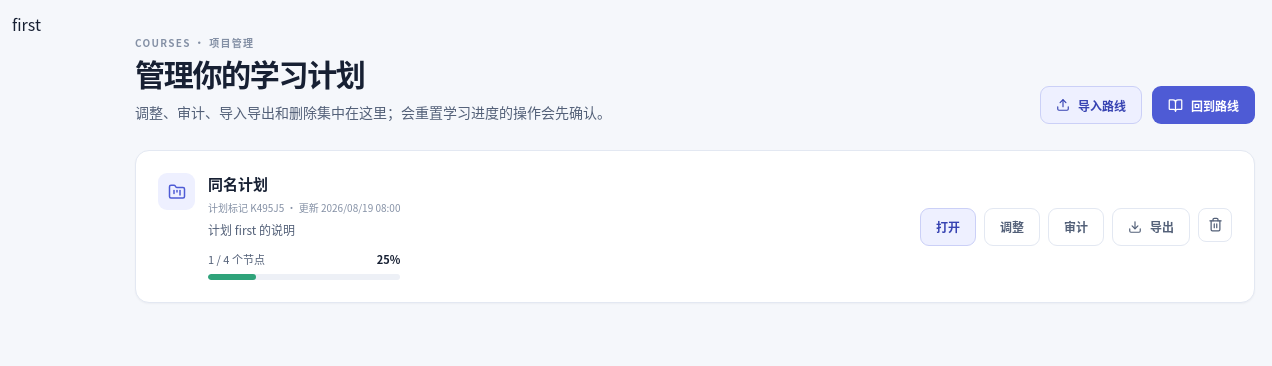
Test: current project selection › keeps the plan and displays a useful delete error
The width and height of the screenshot is (1272, 366).
Step 1. Click the button named "删除学习计划 同名计划 K495J5" → x=1215, y=225, box top-left (1198, 208), bottom-right (1232, 242)
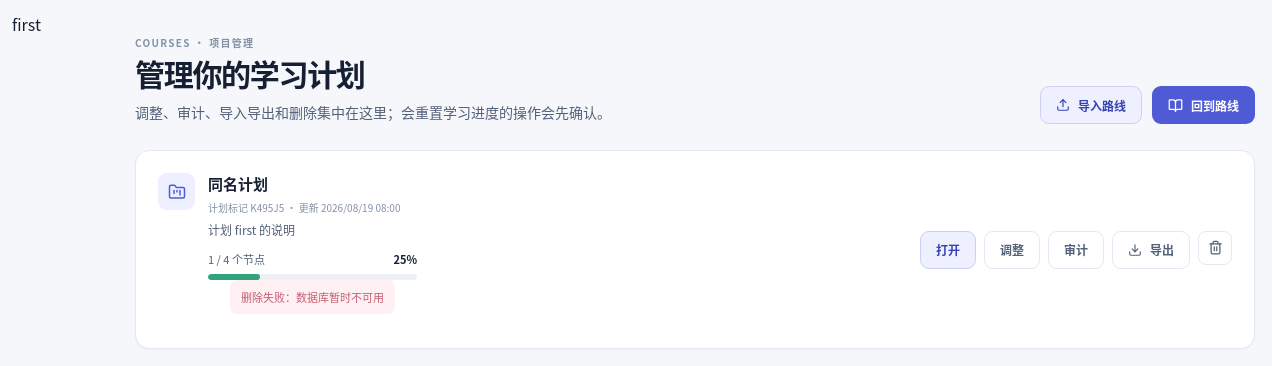
Check: the heading "同名计划" is shown, box top-left (208, 173), bottom-right (268, 194)
Check: the message reads "删除失败：数据库暂时不可用", box top-left (241, 289), bottom-right (384, 305)
